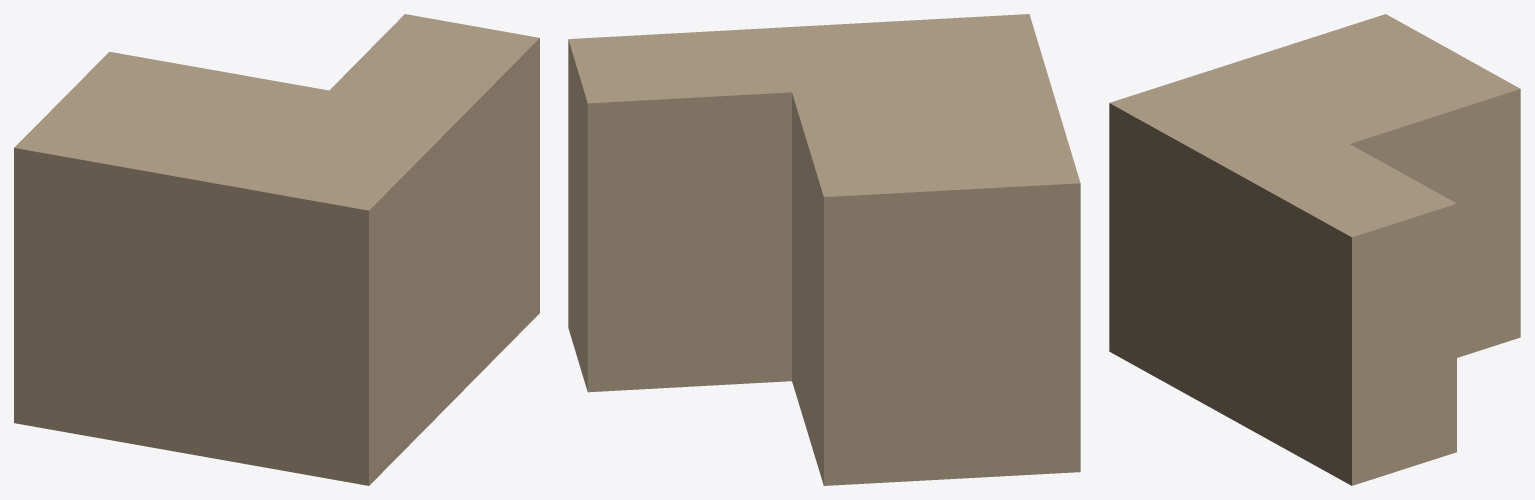
File: bld_106456336.dae
The picture shows the model from 3 angles, left to right: view 1: azimuth 30°, elevation 25°; view 2: azimuth 150°, elevation 25°; view 3: azimuth 270°, elevation 25°; orthographic projection. The views are drawn at different scales.
Visible parts, largest first — view 1: bld_106456336; view 2: bld_106456336; view 3: bld_106456336.
Boxes of the visible parts, box(x1,y1,x2,y2) form: bld_106456336: box(14, 14, 539, 485); bld_106456336: box(568, 14, 1080, 485); bld_106456336: box(1109, 14, 1520, 485).
Size of the model in its own units: 15.42 by 12 by 8.
